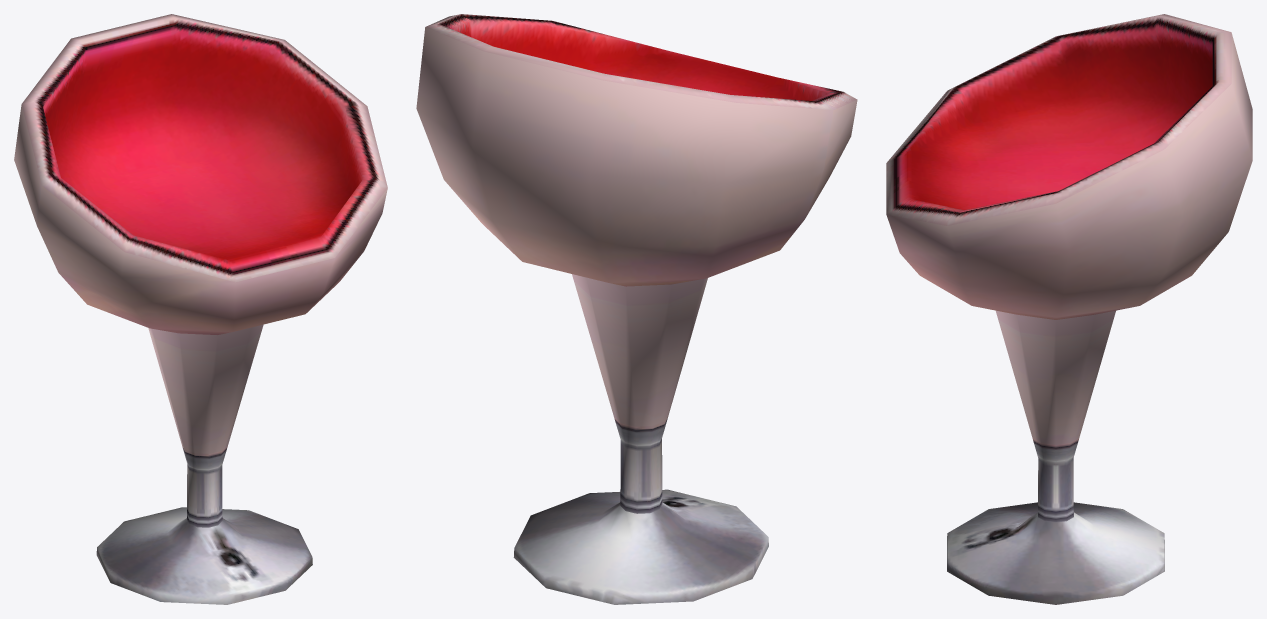
The model's file is furni_0200712.FBX.
3 views of the same model, side by side, from view 1: azimuth 30°, elevation 25°; view 2: azimuth 150°, elevation 25°; view 3: azimuth 270°, elevation 25° (orthographic). The views are drawn at different scales.
Visible parts, largest first — view 1: furni_0200712; view 2: furni_0200712; view 3: furni_0200712.
Part boxes in pixels (<box>): furni_0200712: <box>14,14,387,604</box>; furni_0200712: <box>416,14,857,604</box>; furni_0200712: <box>886,14,1252,604</box>.
Bounding box in the file's own units: 77.23 × 107 × 71.4.
1 material, 1 textured.
